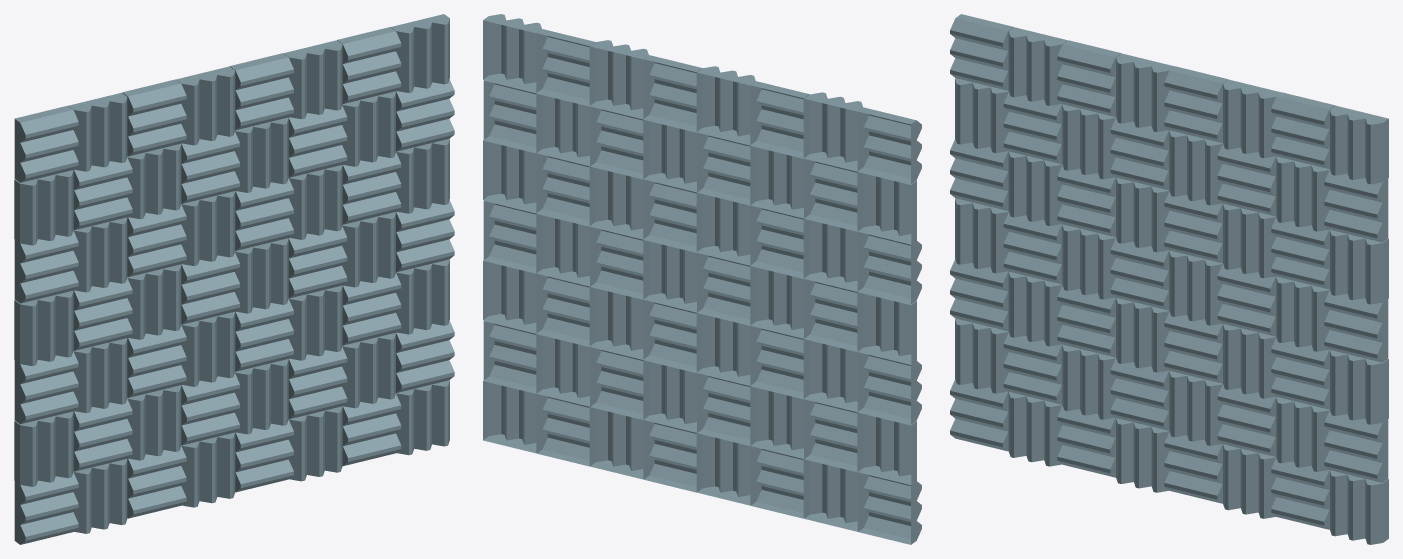
File: Accoustic_Wall.fbx
The picture shows the model from 3 angles, left to right: view 1: azimuth 30°, elevation 25°; view 2: azimuth 150°, elevation 25°; view 3: azimuth 330°, elevation 25°; orthographic projection.
Visible parts, largest first — view 1: Accoustic_Wall; view 2: Accoustic_Wall; view 3: Accoustic_Wall.
Boxes of the visible parts, bbox=[...] form: Accoustic_Wall: bbox=[14, 14, 454, 544]; Accoustic_Wall: bbox=[483, 14, 921, 544]; Accoustic_Wall: bbox=[950, 14, 1388, 544].
Bounding box in the file's own units: 194 × 182 × 8.66.
